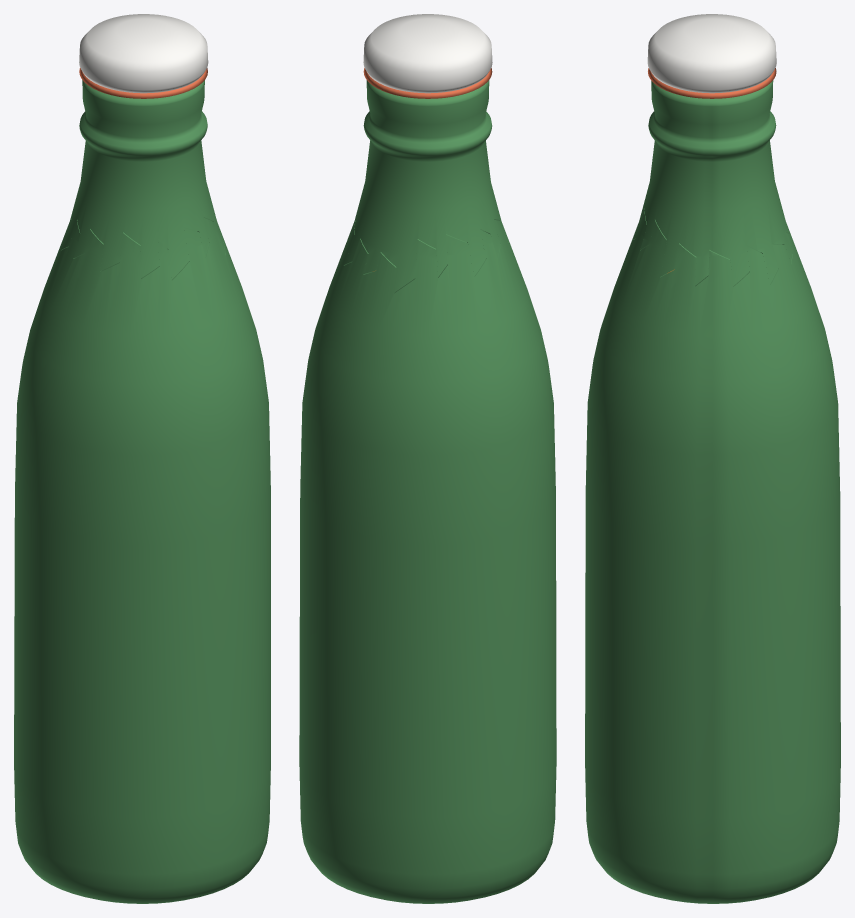
File: bottle_swingtop_broken.glb
The picture shows the model from 3 angles, left to right: view 1: azimuth 30°, elevation 25°; view 2: azimuth 150°, elevation 25°; view 3: azimuth 270°, elevation 25°; orthographic projection.
Visible parts, largest first — view 1: Glass.001, Neck, Cap; view 2: Glass.001, Neck, Cap; view 3: Glass.001, Neck, Cap.
Part boxes in pixels (x1=…): Glass.001: x1=14, y1=210, x2=270, y2=903; Neck: x1=61, y1=80, x2=225, y2=279; Cap: x1=79, y1=14, x2=208, y2=98; Glass.001: x1=299, y1=220, x2=556, y2=903; Neck: x1=344, y1=80, x2=508, y2=292; Cap: x1=363, y1=14, x2=492, y2=98; Glass.001: x1=585, y1=208, x2=840, y2=903; Neck: x1=632, y1=80, x2=797, y2=285; Cap: x1=647, y1=14, x2=776, y2=98.
Size of the model in its own units: 0.0691 by 0.2455 by 0.0687.
